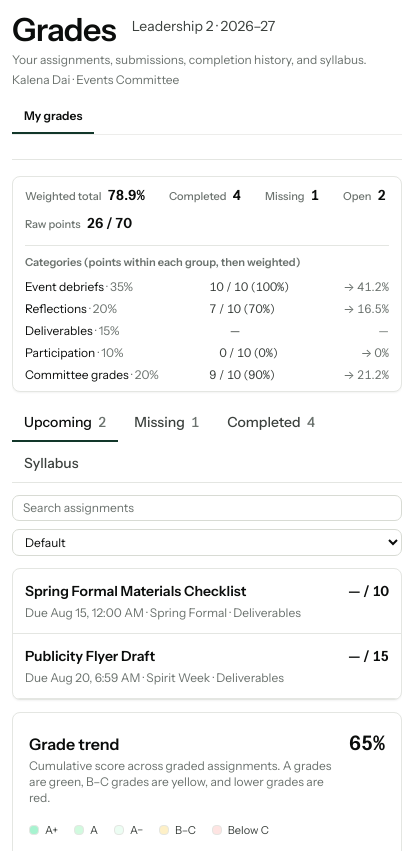
Test: GradesPage › mobile layout preserves score visibility
What coordinates should you click on to do the following:
click the tab "Completed4"
I would click on:
 (271, 422)
Its box is [215,404,327,442].
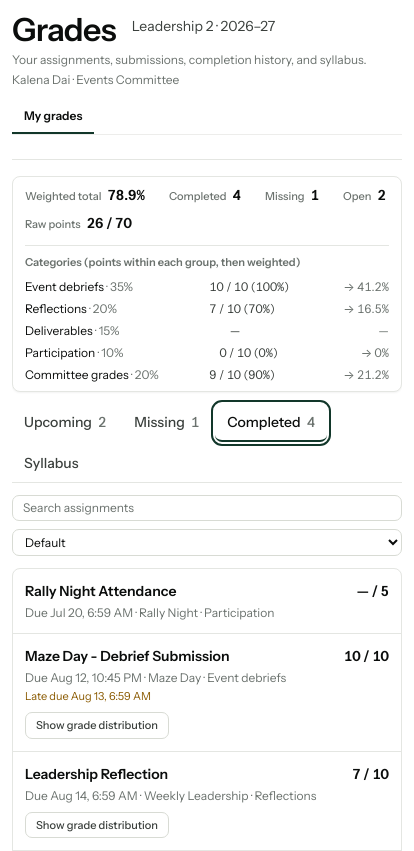
Expected: the text "Maze Day - Debrief Submission" is shown, [25,646,230,664]
Expected: the text "10 / 10" is shown, [344,646,389,666]
